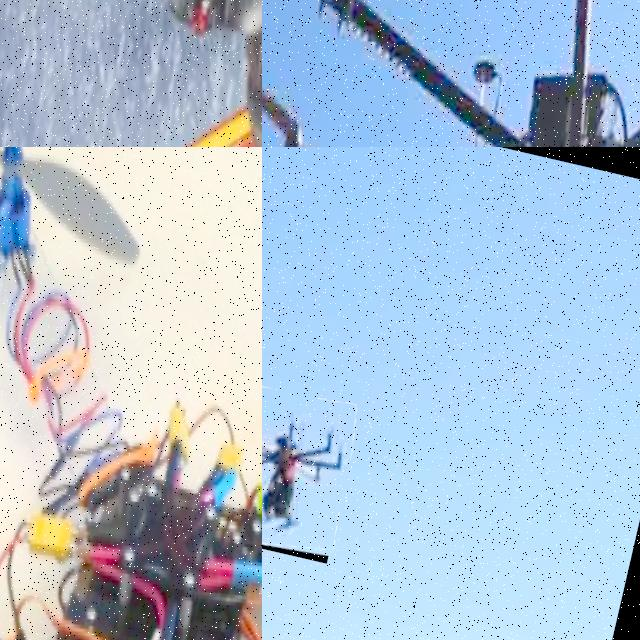drone: (0, 147, 262, 640), (262, 0, 640, 147), (0, 0, 262, 147), (262, 375, 362, 563)
